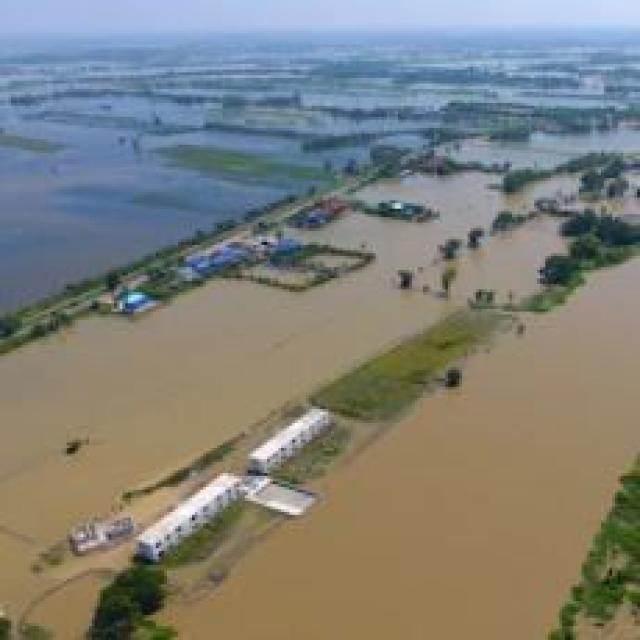flooded_areas: (5, 162, 629, 624)
